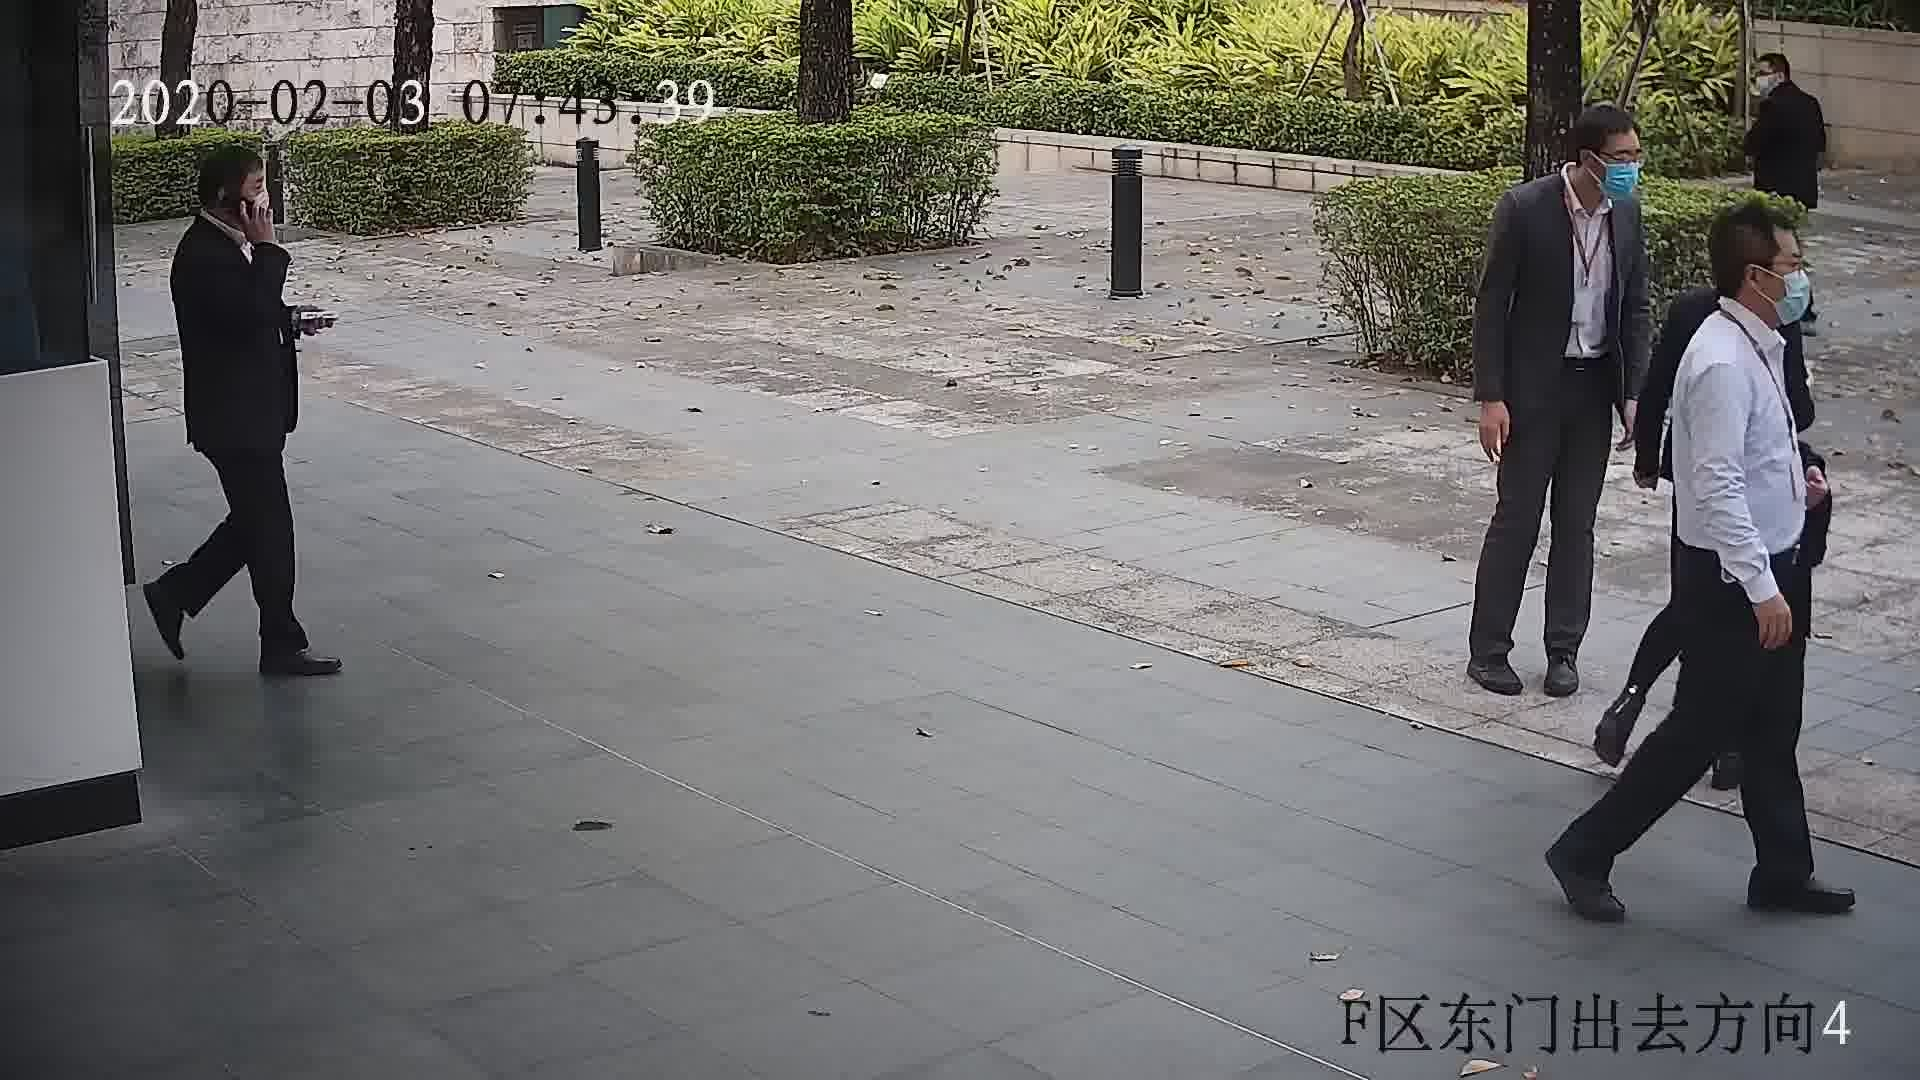face: (1728, 226, 1815, 334), (1590, 127, 1646, 208), (218, 164, 283, 229)
mask: (1771, 267, 1818, 327), (1592, 158, 1646, 205), (1753, 70, 1775, 96)
person: (1670, 204, 1822, 401), (1496, 102, 1646, 240), (170, 142, 279, 291), (1752, 45, 1827, 113)
